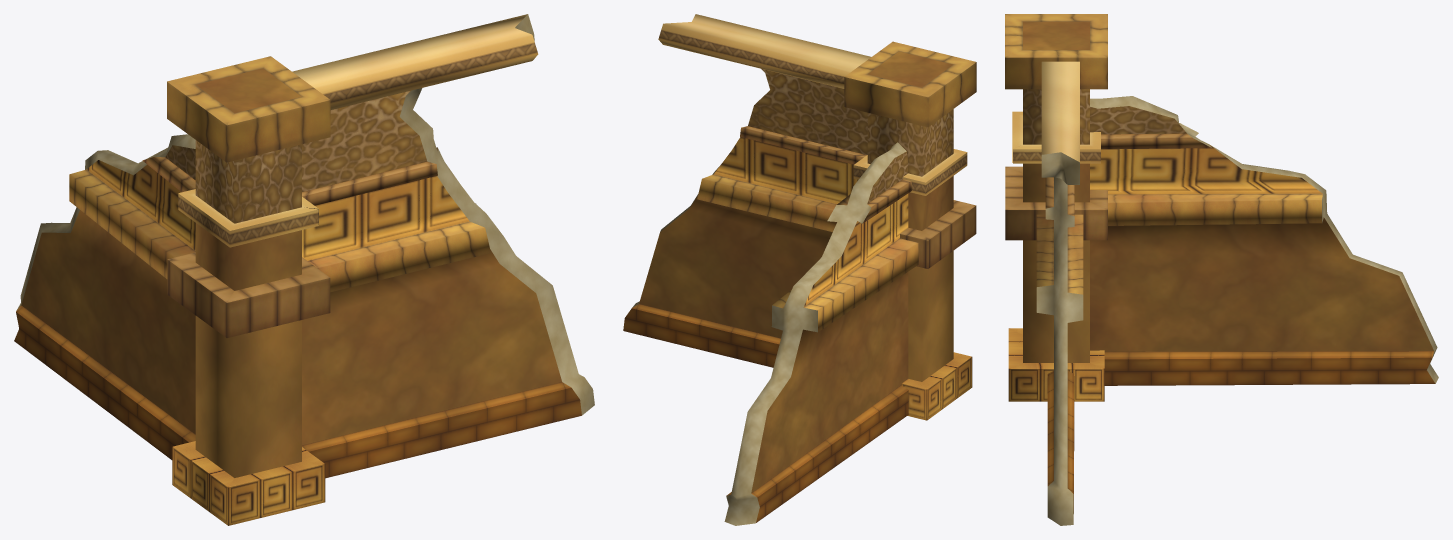
The model's file is RuinWallCorner.FBX.
3 renders of one model, left to right at view 1: azimuth 30°, elevation 25°; view 2: azimuth 150°, elevation 25°; view 3: azimuth 270°, elevation 25°, orthographic. The views are drawn at different scales.
Visible parts, largest first — view 1: Wall4, Object002; view 2: Wall4, Object002; view 3: Wall4, Object002.
Part boxes in pixels (bbox=[...]): Wall4: bbox=[14, 14, 594, 478]; Object002: bbox=[167, 56, 330, 525]; Wall4: bbox=[623, 14, 918, 525]; Object002: bbox=[844, 41, 976, 420]; Wall4: bbox=[1036, 61, 1438, 525]; Object002: bbox=[1005, 14, 1107, 401].
Size of the model in its own units: 614 by 590 by 671.
